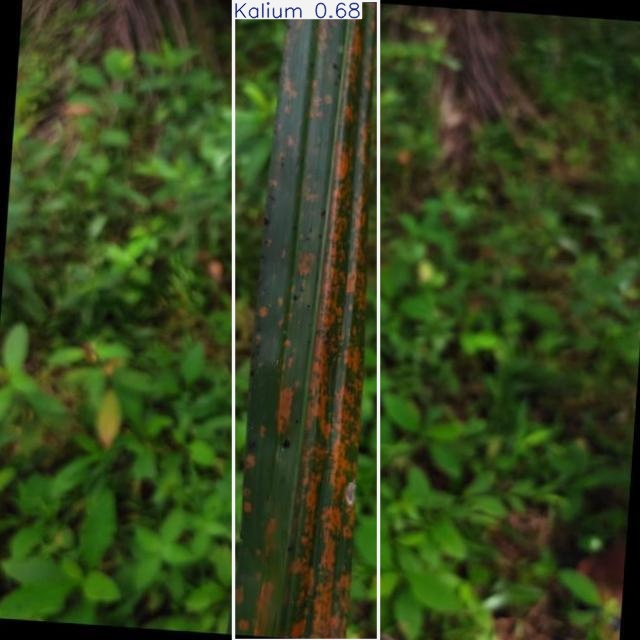Kalium: (234, 1, 378, 640)
